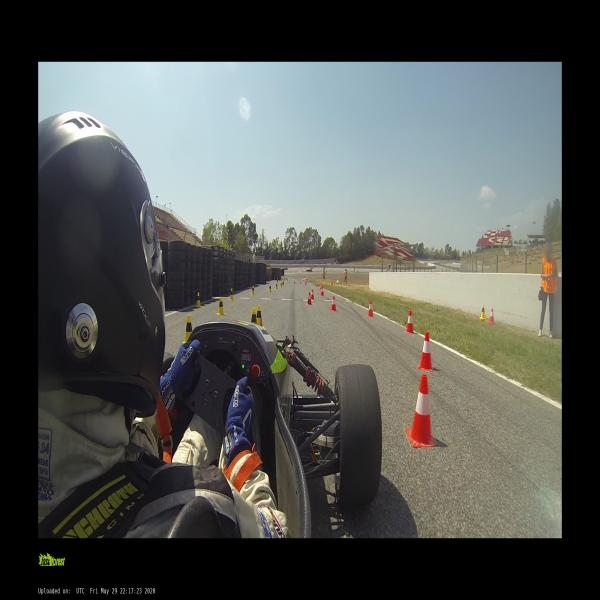orange_cone: (405, 374, 437, 449), (417, 332, 434, 373), (404, 310, 414, 334), (366, 300, 374, 318), (331, 296, 337, 312), (489, 308, 495, 324), (307, 292, 313, 306), (310, 288, 315, 300), (321, 286, 324, 296), (316, 281, 318, 287), (320, 284, 322, 289), (305, 280, 306, 285), (300, 279, 301, 283), (294, 280, 295, 283), (306, 280, 307, 282)
yellow_cone: (185, 315, 192, 341), (217, 297, 225, 315), (194, 292, 202, 308), (251, 306, 257, 324), (257, 305, 262, 325), (480, 304, 486, 319), (229, 288, 234, 301), (251, 285, 255, 295), (268, 284, 272, 293), (275, 282, 278, 290), (280, 282, 282, 288), (282, 281, 284, 286), (274, 278, 276, 282), (277, 279, 278, 285), (269, 278, 270, 282), (283, 281, 284, 285)
